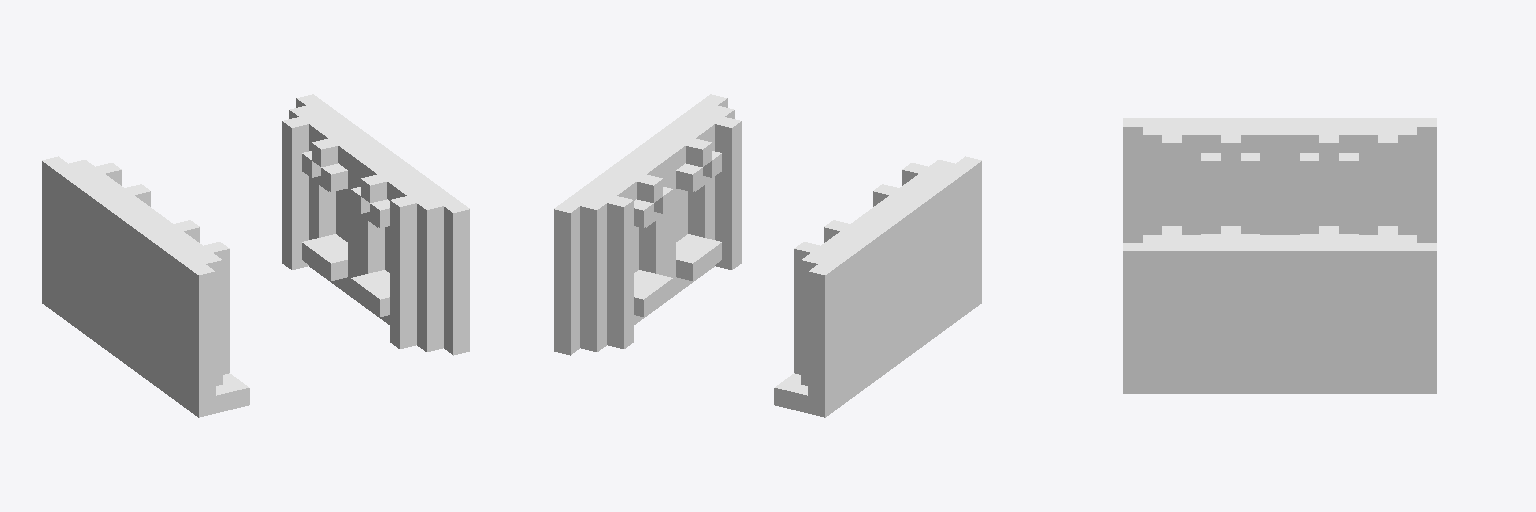
File: towar-19.obj
3 renders of one model, left to right at view 1: azimuth 30°, elevation 25°; view 2: azimuth 150°, elevation 25°; view 3: azimuth 270°, elevation 25°, orthographic.
Parts seen in each view (by area): view 1: towar-19; view 2: towar-19; view 3: towar-19.
Boxes of the visible parts, x1=… form: towar-19: x1=42, y1=94, x2=469, y2=417; towar-19: x1=554, y1=94, x2=981, y2=417; towar-19: x1=1123, y1=118, x2=1436, y2=393.
Size of the model in its own units: 16 by 8 by 16.